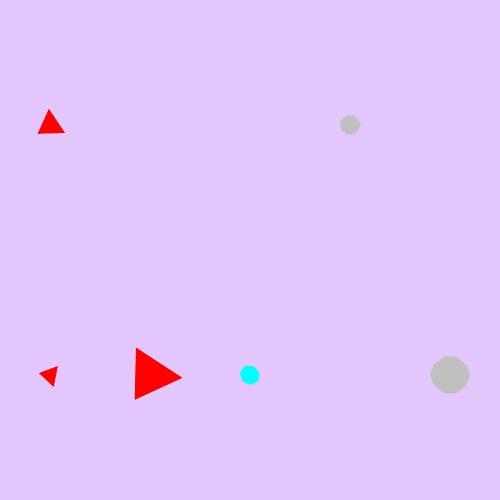decagon: (426, 353, 474, 397), (335, 111, 365, 139)
heptagon: (236, 361, 265, 389)
triangle: (123, 347, 177, 404), (34, 108, 67, 142), (37, 361, 64, 389)
